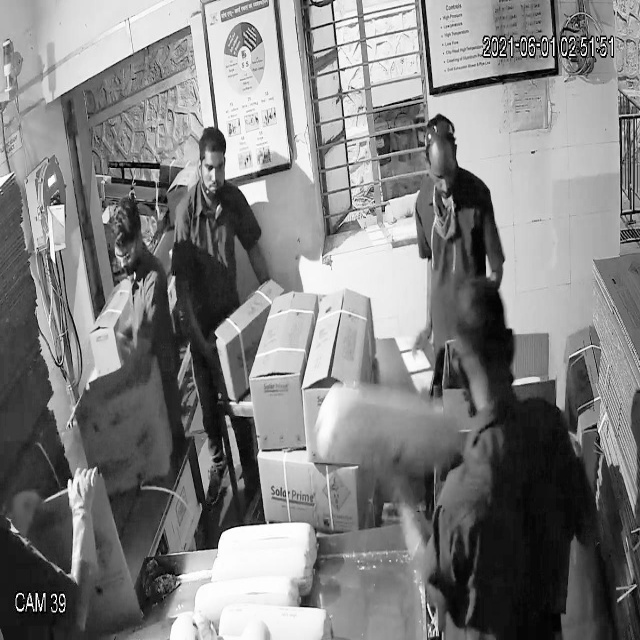Gafas: (109, 237, 146, 271)
Sin_gafas: (194, 151, 230, 187)
